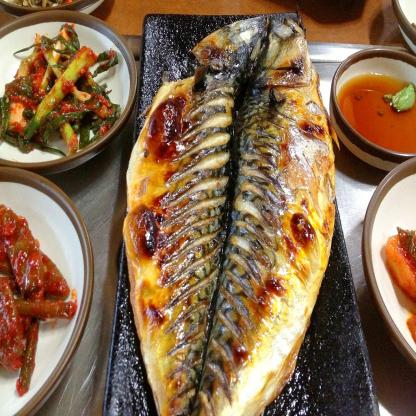Peixe: (119, 0, 342, 416)
